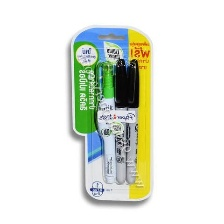book: (67, 22, 157, 205)
correction_fluid: (93, 58, 119, 185)
